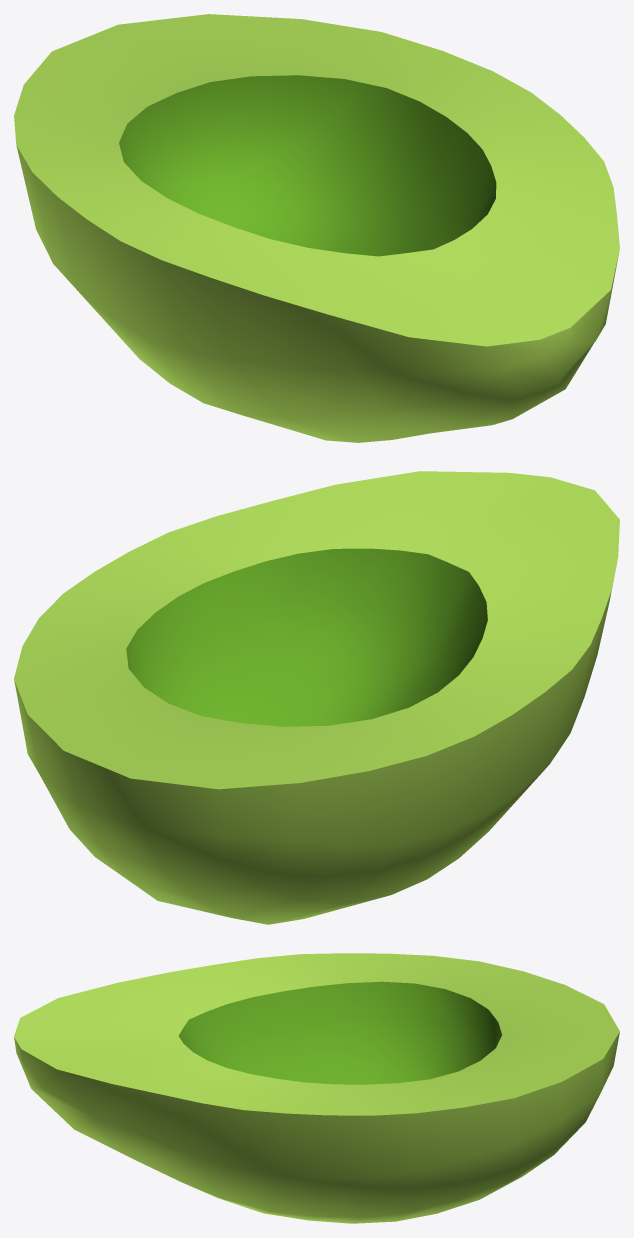
File: Avocado_Half_Whole.fbx
3 renders of one model, top to bottom at view 1: azimuth 30°, elevation 25°; view 2: azimuth 150°, elevation 25°; view 3: azimuth 270°, elevation 25°, orthographic. The views are drawn at different scales.
Parts seen in each view (by area): view 1: Avocado_Half_Whole; view 2: Avocado_Half_Whole; view 3: Avocado_Half_Whole.
Boxes of the visible parts, x1,y1,x2,y2 form: Avocado_Half_Whole: (14, 14, 619, 442); Avocado_Half_Whole: (14, 471, 619, 924); Avocado_Half_Whole: (14, 953, 619, 1223).
Bounding box in the file's own units: 92.91 × 45.09 × 146.
